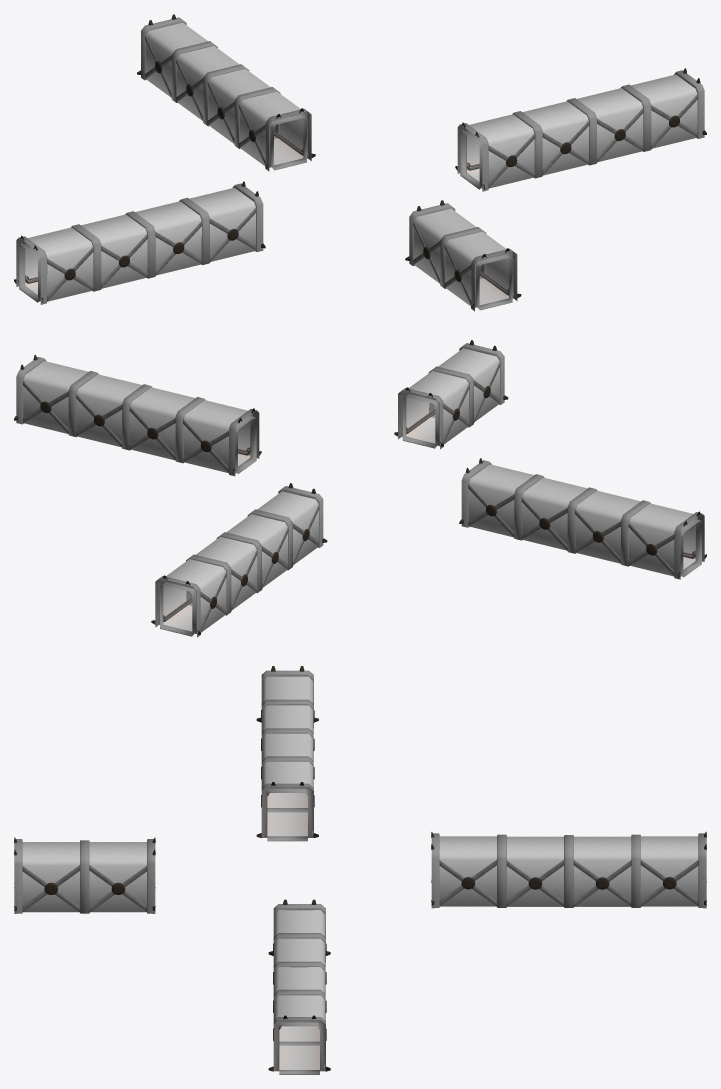
The model's file is Corridoio_assemblato.FBX.
The picture shows the model from 3 angles, top to bottom: view 1: azimuth 30°, elevation 25°; view 2: azimuth 150°, elevation 25°; view 3: azimuth 270°, elevation 25°; orthographic projection. The views are drawn at different scales.
Parts seen in each view (by area): view 1: Corridoio_base; view 2: Corridoio_base; view 3: Corridoio_base.
Boxes of the visible parts, x1,y1,x2,y2 form: Corridoio_base: [14, 14, 706, 311]; Corridoio_base: [14, 340, 706, 637]; Corridoio_base: [14, 666, 706, 1074].
Bounding box in the file's own units: 40.53 × 3.21 × 33.9.
